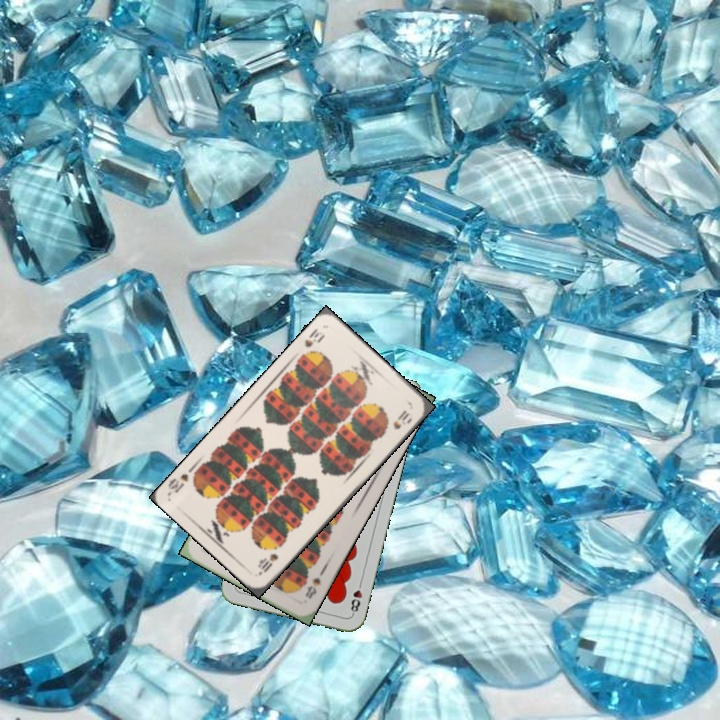H8: (346, 577, 365, 617)
S10: (255, 549, 281, 577), (300, 324, 328, 350)
S8: (301, 573, 324, 601)
